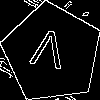V: (27, 28, 68, 79)
